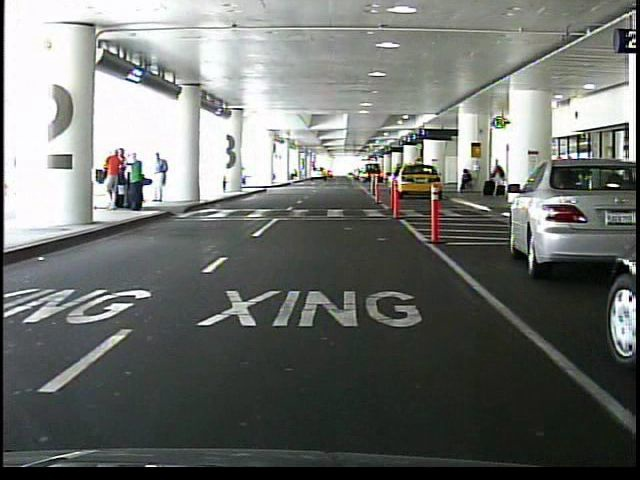person: (128, 152, 147, 212), (152, 153, 170, 206), (108, 149, 123, 209), (489, 161, 503, 199), (456, 170, 473, 196)
